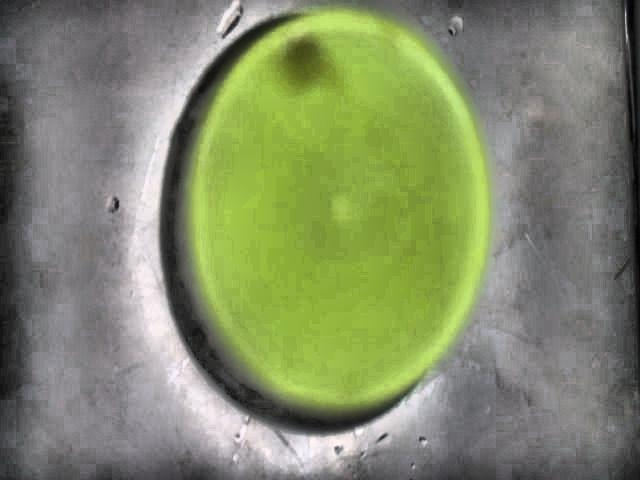Bottles: (161, 5, 495, 432)
